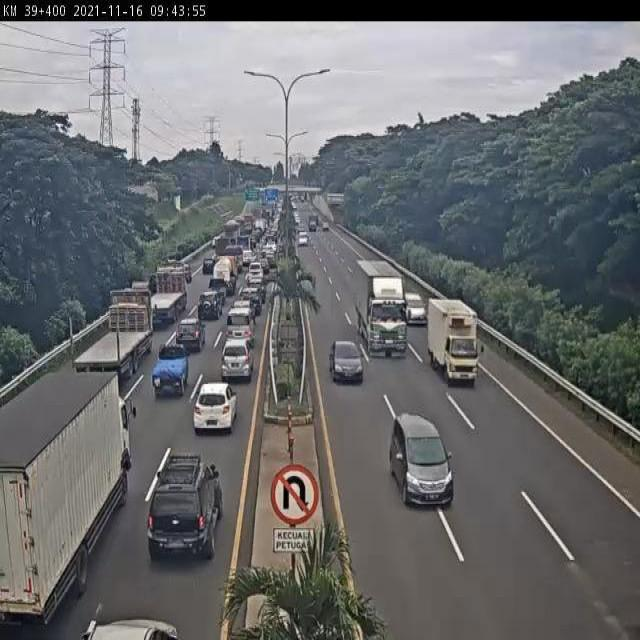car: (145, 453, 225, 567), (391, 413, 454, 508), (193, 384, 237, 435), (151, 344, 190, 397), (329, 339, 364, 388), (222, 337, 255, 383), (228, 306, 257, 346), (177, 319, 205, 352), (199, 291, 222, 321)
small truck: (429, 296, 485, 388)
truck-l-: (69, 288, 152, 383), (354, 262, 408, 358), (147, 264, 193, 324)
truck-m-: (0, 382, 132, 640)
